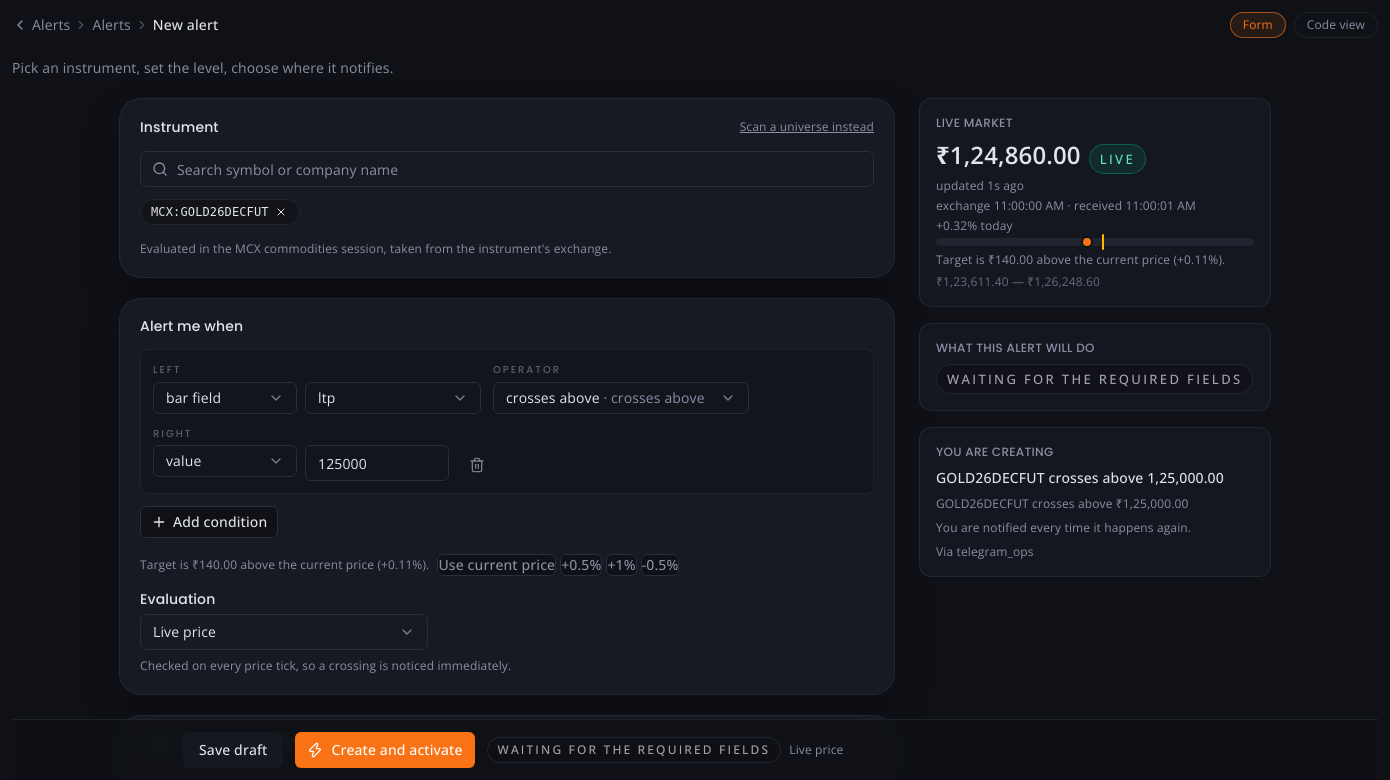
UnifiedAlertEditor › reports a saved draft when activation fails, and links to it
The width and height of the screenshot is (1390, 780).
Click the button "Create and activate" at (385, 750), box [295,732,474,768]
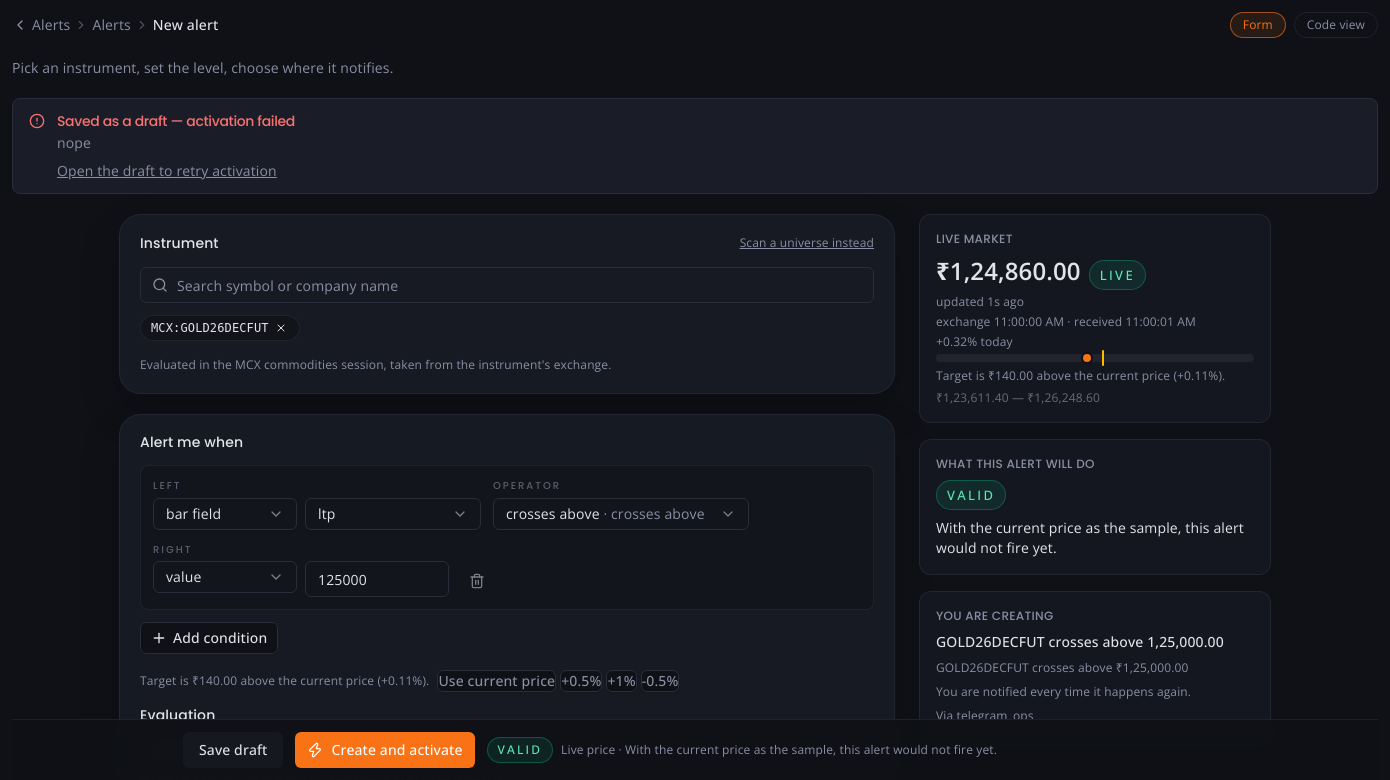
Result: the heading "Saved as a draft — activation failed" is shown at [57,111,295,131]
Result: the link "Open the draft to retry activation" is shown at [57,161,277,180]
